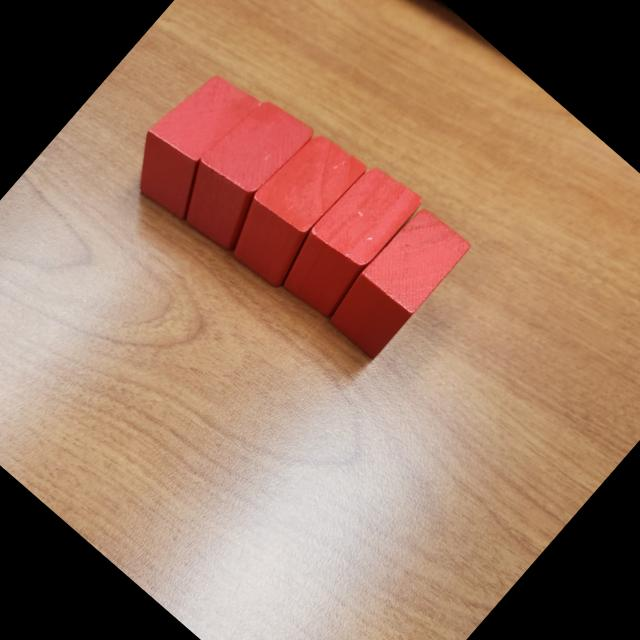red: (160, 84, 330, 261), (210, 120, 378, 296), (112, 58, 276, 229), (268, 156, 426, 323), (321, 201, 474, 363)
